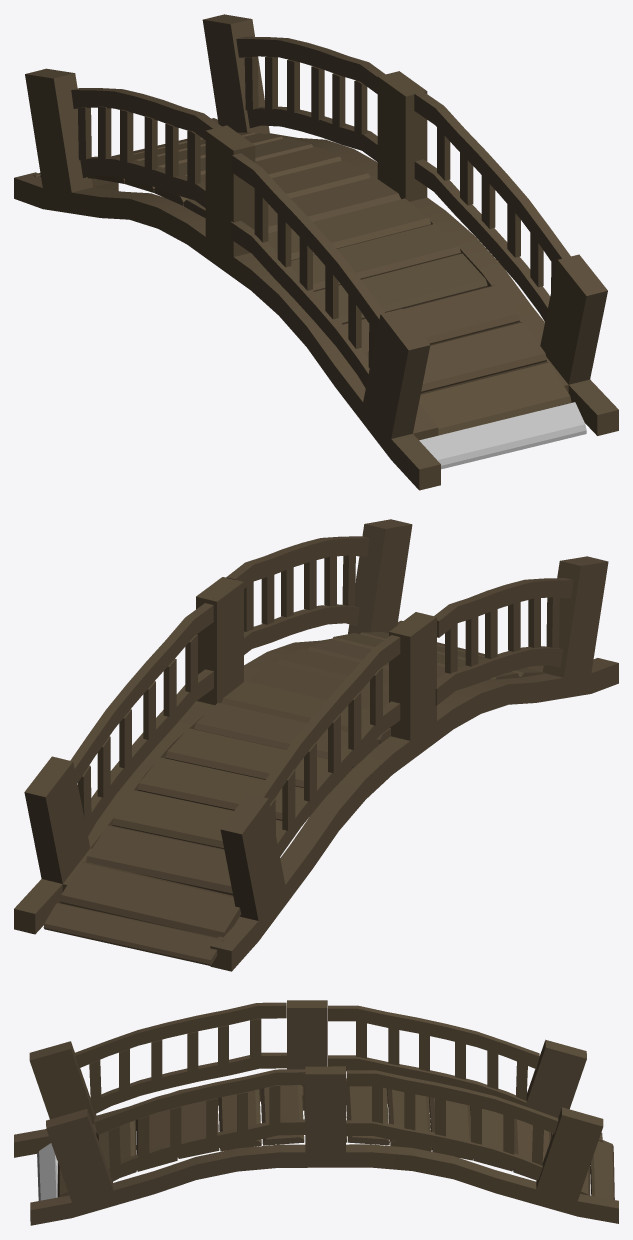
File: brug.fbx
3 renders of one model, top to bottom at view 1: azimuth 30°, elevation 25°; view 2: azimuth 150°, elevation 25°; view 3: azimuth 270°, elevation 25°, orthographic. The views are drawn at different scales.
Parts seen in each view (by area): view 1: polySurface81; view 2: polySurface81; view 3: polySurface81.
Boxes of the visible parts, x1,y1,x2,y2 form: polySurface81: (14, 14, 618, 490); polySurface81: (14, 519, 618, 971); polySurface81: (14, 1000, 618, 1225).
Bounding box in the file's own units: 5.44 × 4.94 × 17.94.
Materials: 2 (1 with a texture image).
